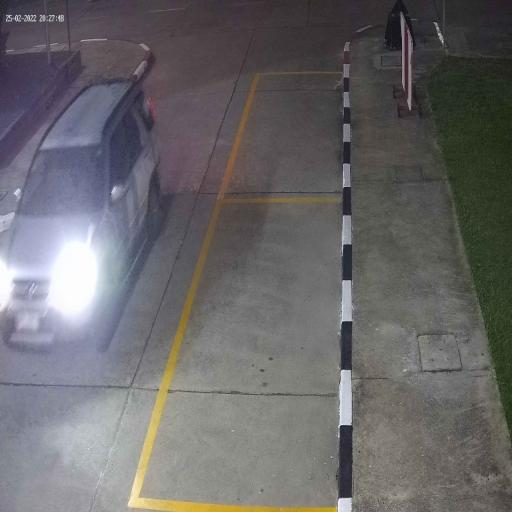car: (0, 77, 165, 354)
